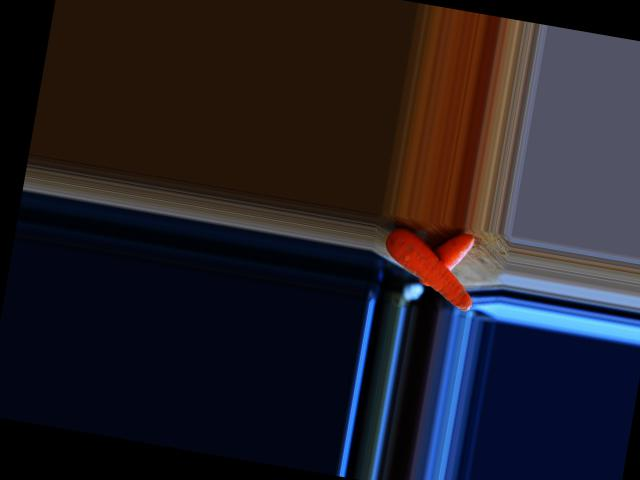carrot: (415, 226, 472, 292)
